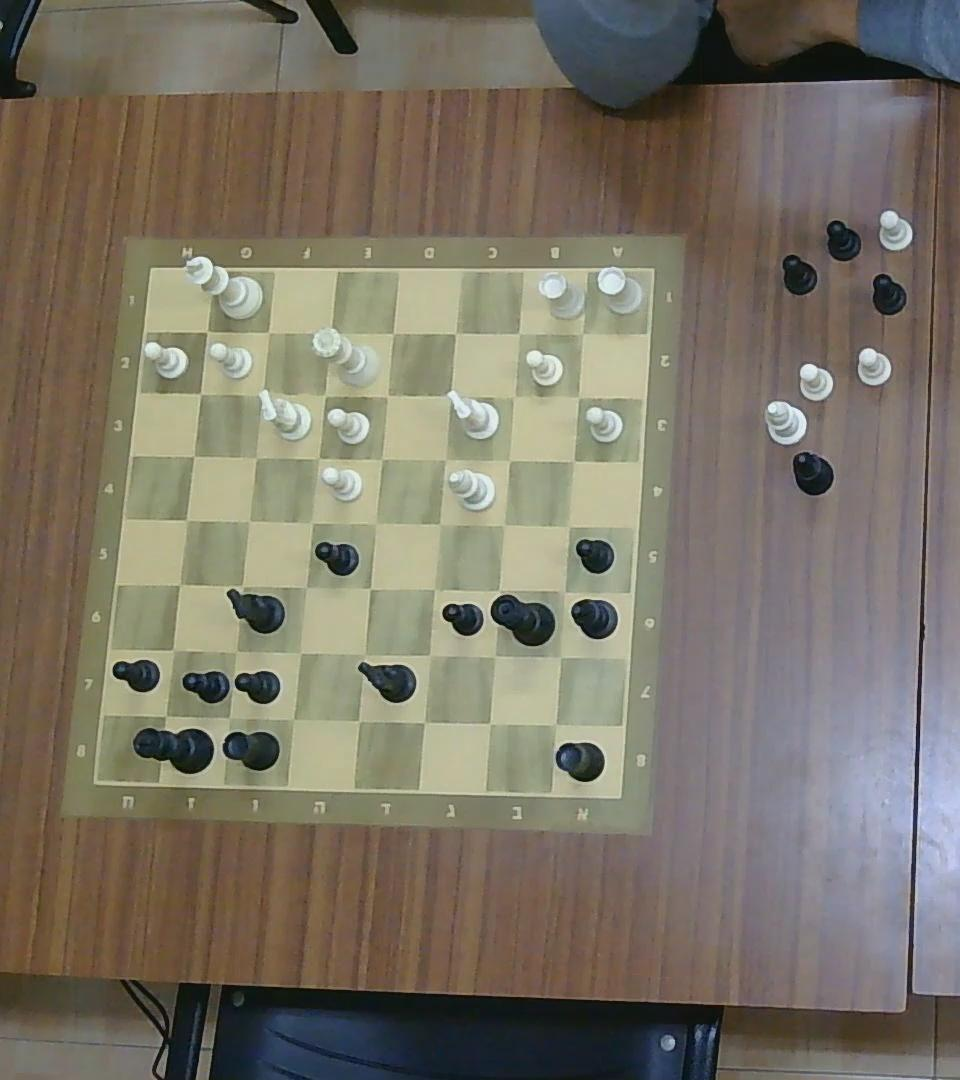xcorner: (215, 703, 241, 730), (477, 709, 503, 735), (153, 702, 179, 728), (280, 705, 305, 732), (412, 709, 437, 734), (167, 571, 192, 596), (543, 711, 568, 736), (347, 707, 371, 733), (482, 644, 506, 668), (549, 644, 573, 668), (288, 640, 311, 665), (427, 512, 450, 536), (318, 320, 341, 344), (162, 638, 185, 661), (419, 643, 442, 666), (352, 641, 375, 664), (487, 577, 510, 600), (175, 507, 197, 531), (224, 639, 246, 663), (238, 509, 260, 533), (363, 511, 385, 534), (558, 513, 580, 536), (422, 577, 444, 600), (251, 381, 272, 405), (182, 444, 204, 466), (568, 385, 590, 407), (438, 383, 460, 405), (493, 512, 513, 536), (295, 575, 315, 599), (197, 319, 218, 341), (563, 449, 584, 471), (553, 581, 575, 602), (258, 321, 279, 343), (231, 574, 252, 596), (360, 577, 380, 600), (371, 448, 392, 469), (498, 449, 518, 471), (301, 510, 321, 532), (445, 321, 465, 343), (383, 321, 403, 343), (376, 384, 396, 405), (308, 446, 327, 468), (189, 383, 209, 403), (435, 448, 454, 469), (315, 384, 334, 405), (573, 323, 592, 344), (247, 447, 266, 467), (510, 322, 529, 342), (504, 387, 523, 405)
